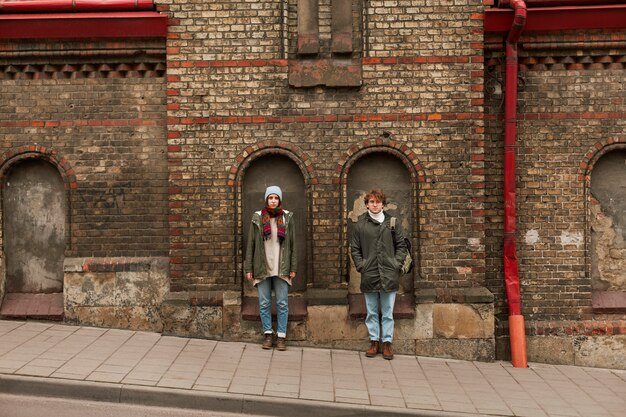Wall: (70, 79, 242, 322), (424, 111, 499, 295), (519, 136, 590, 312), (257, 90, 405, 133)
